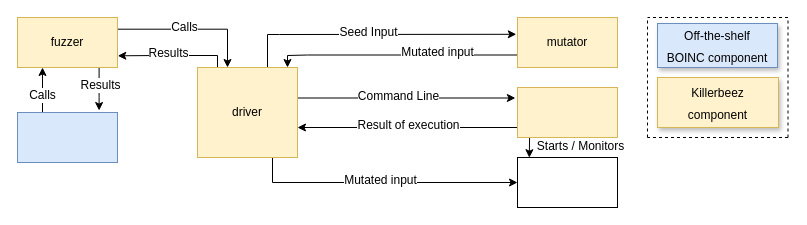
This 807x225 diagram has some shape labels left out. Each missing label, with the centre of its shape:
BOINC wrapper: (67,137)
instrumentation: (567,112)
target process: (567,182)
